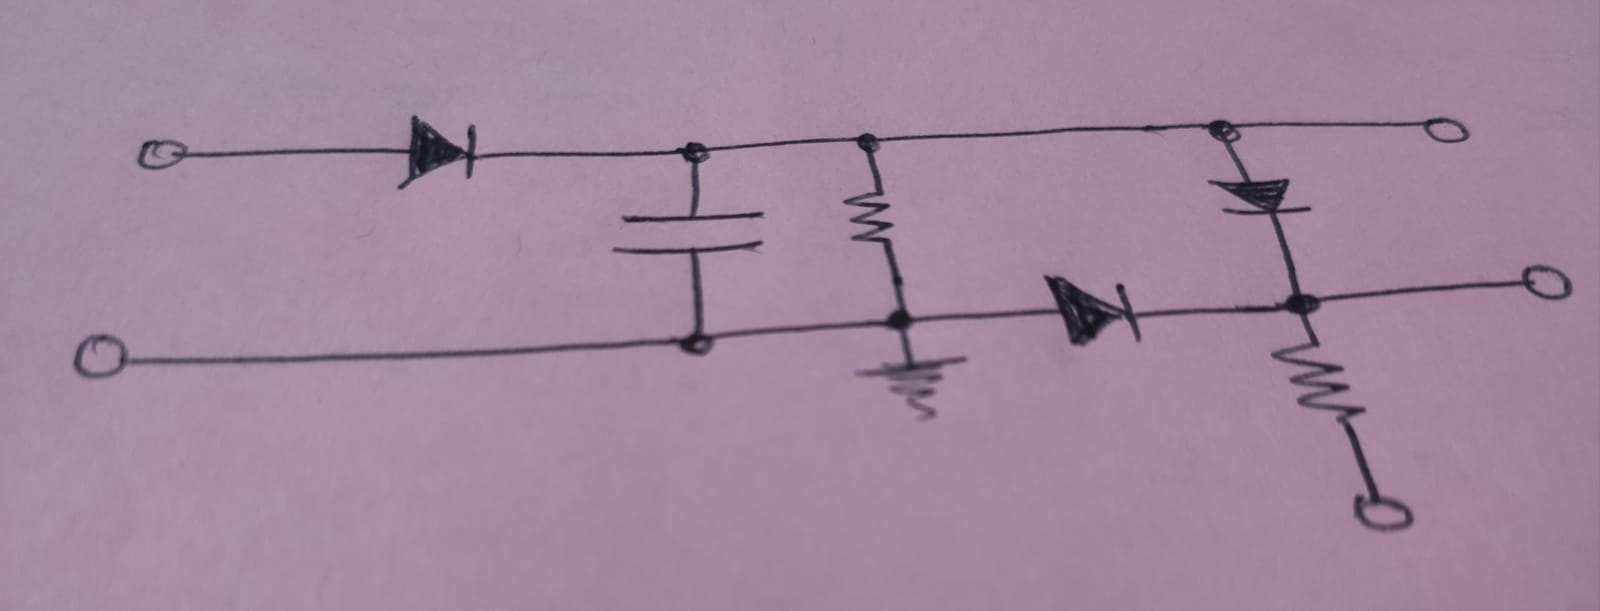capacitor.unpolarized: (616, 201, 764, 261)
diode: (1046, 277, 1146, 349), (398, 115, 481, 187), (1208, 172, 1311, 220)
gnd: (857, 352, 970, 417)
junction: (1274, 288, 1330, 321), (672, 323, 721, 358), (1204, 112, 1246, 147), (673, 140, 719, 170), (883, 303, 923, 334), (849, 130, 891, 154)
resistor: (1269, 332, 1363, 429), (838, 186, 901, 253)
terminal: (1350, 479, 1415, 534), (130, 129, 195, 175), (71, 330, 136, 377), (1515, 263, 1573, 302), (1417, 110, 1469, 146)
